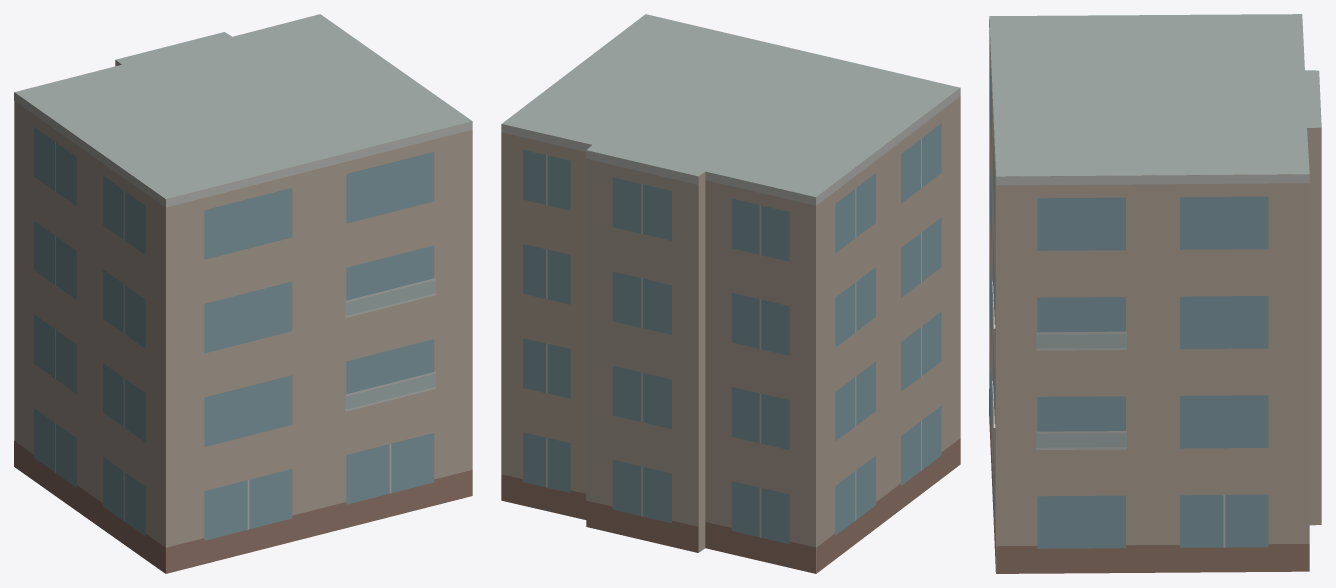
The model's file is survey-upis-32610857.glb.
3 views of the same model, side by side, from view 1: azimuth 30°, elevation 25°; view 2: azimuth 150°, elevation 25°; view 3: azimuth 270°, elevation 25° (orthographic). The views are drawn at different scales.
Parts seen in each view (by area): view 1: survey-upis-32610857.tmp; view 2: survey-upis-32610857.tmp; view 3: survey-upis-32610857.tmp.
Part boxes in pixels (bbox=[...]): survey-upis-32610857.tmp: bbox=[14, 14, 472, 573]; survey-upis-32610857.tmp: bbox=[501, 14, 960, 573]; survey-upis-32610857.tmp: bbox=[989, 14, 1321, 573].
Bounding box in the file's own units: 9.5 × 10.8 × 8.2.
